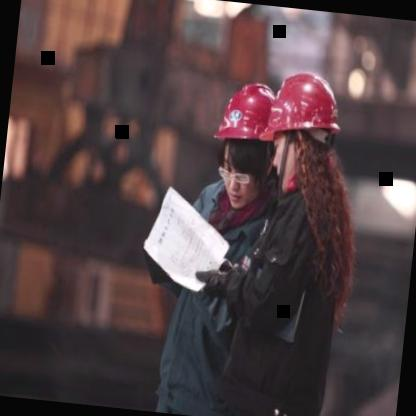helmet: (259, 62, 347, 202), (204, 73, 288, 211)
